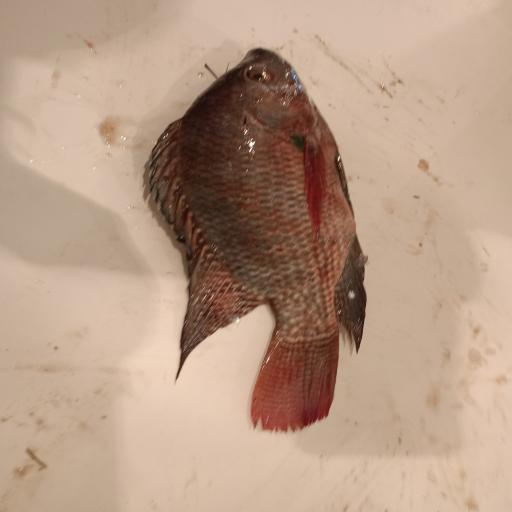Tilapia: (143, 46, 369, 434)
